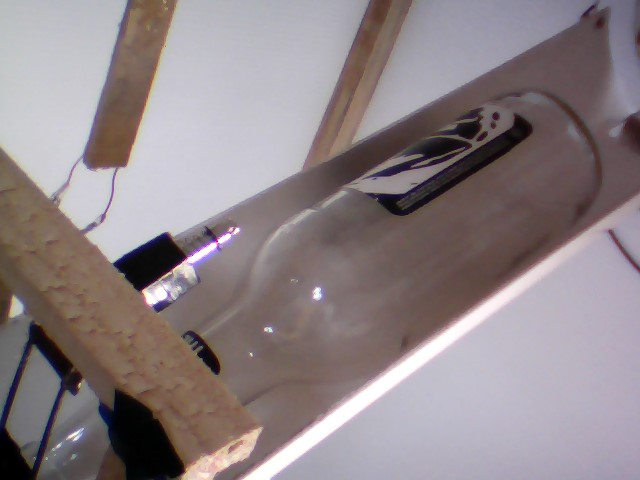vidrio: (172, 85, 606, 412)
